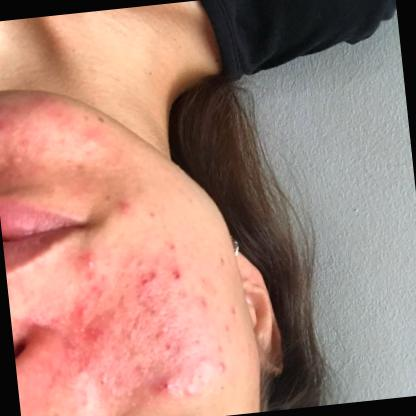Acne: (144, 368, 183, 398), (72, 244, 103, 280)
